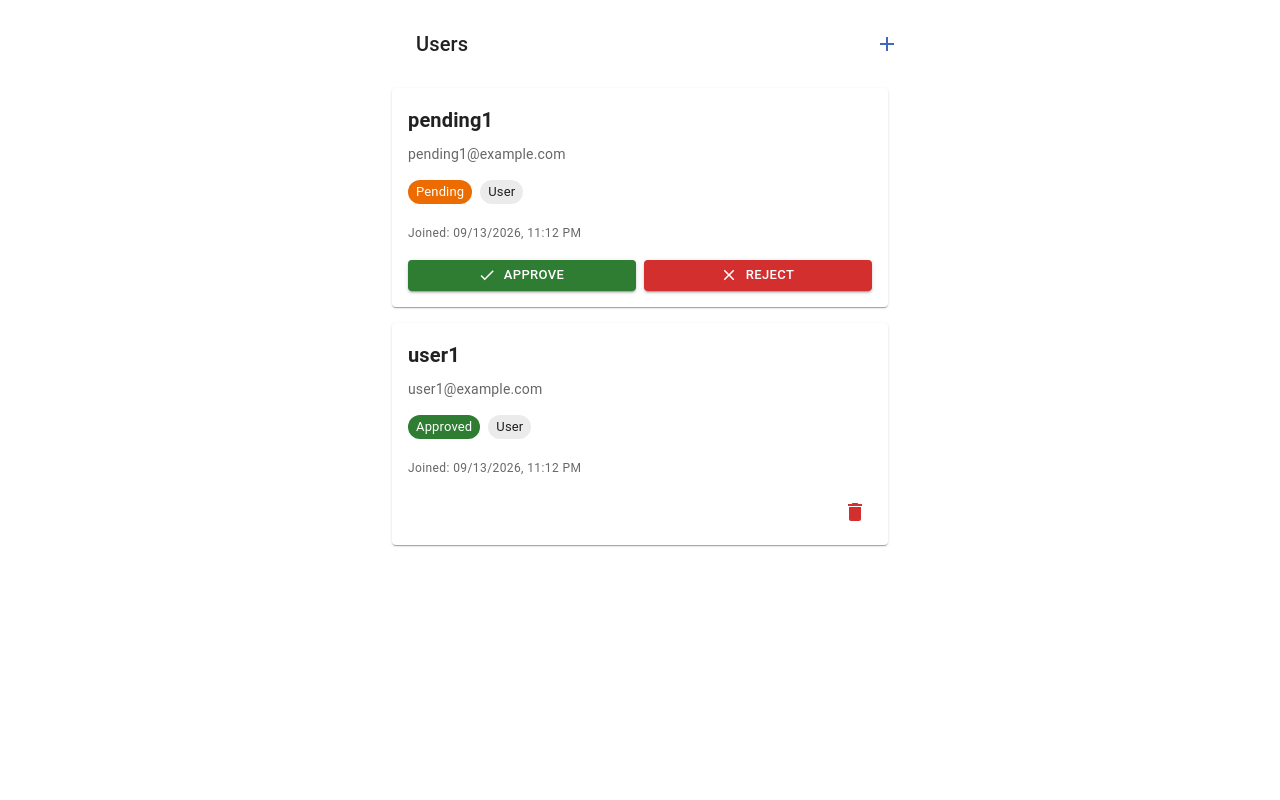
Test case: UserManagementContent › create user opens dialog; invalid submit shows validation error
Step 1. Click the button named "add" → (887, 44), box top-left (870, 27), bottom-right (904, 61)
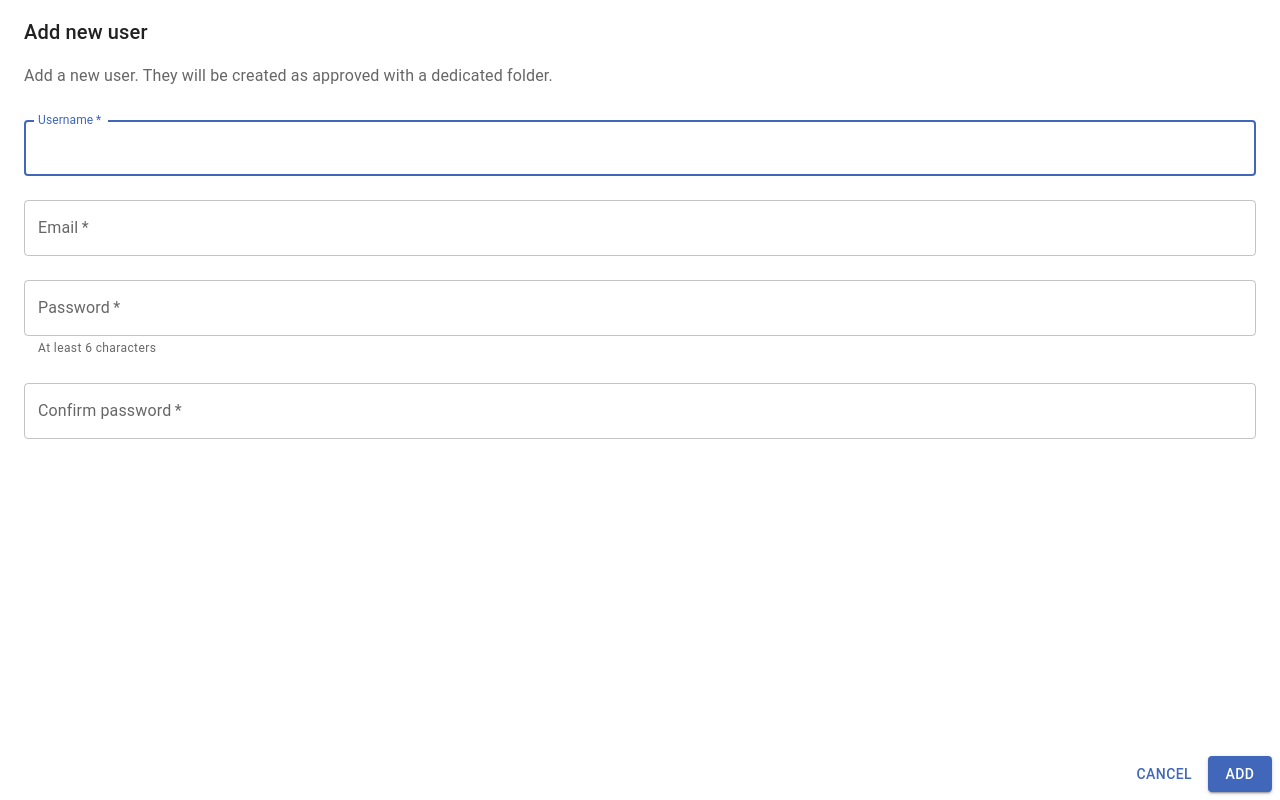
Check: the dialog "Add new user" is shown
Step 2. Click the button "Add" → (1240, 774), box top-left (1208, 756), bottom-right (1272, 792)
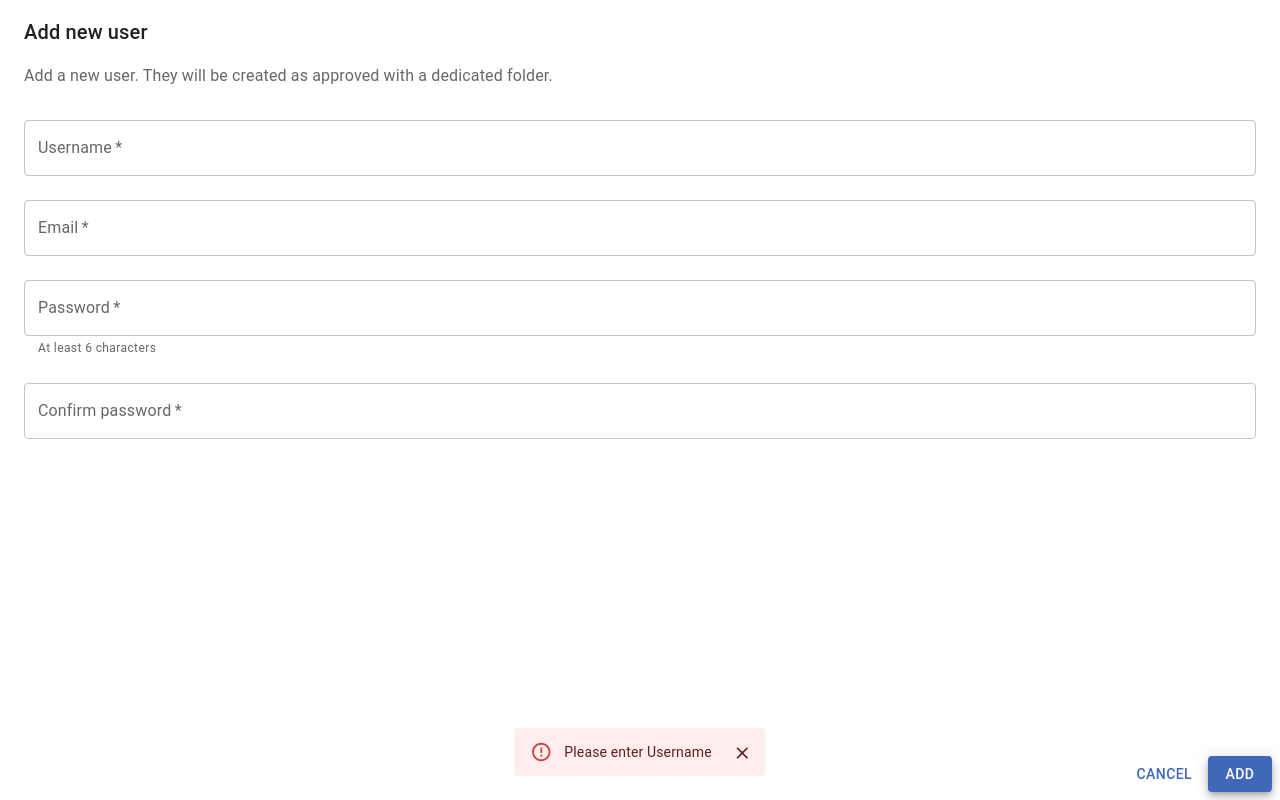
Check: the dialog "Add new user" is shown
Check: the text "Please enter Username" is shown, box top-left (564, 744), bottom-right (712, 760)
